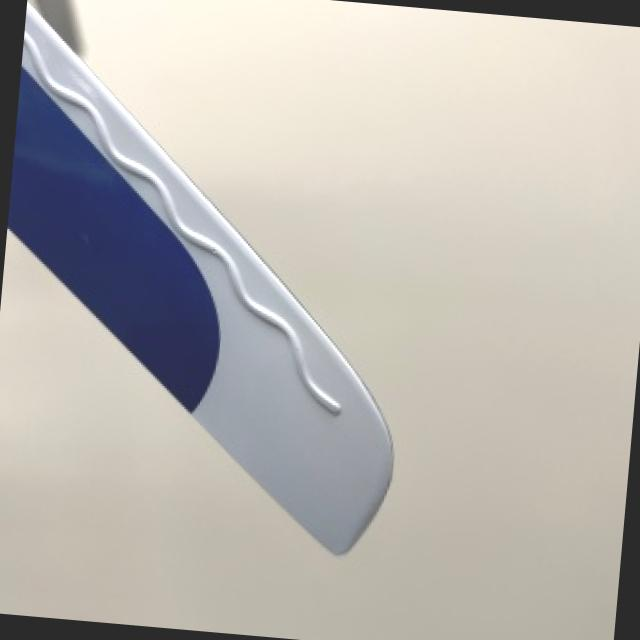healthy: (11, 5, 393, 550)
